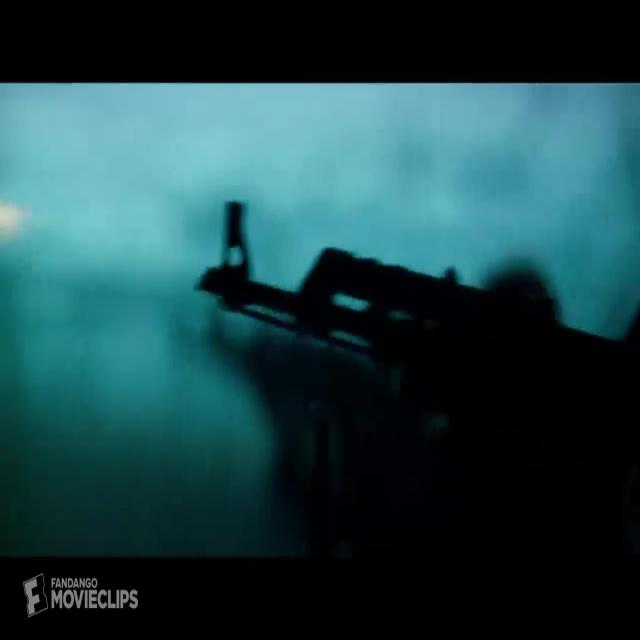Weapon: (151, 163, 628, 585)
